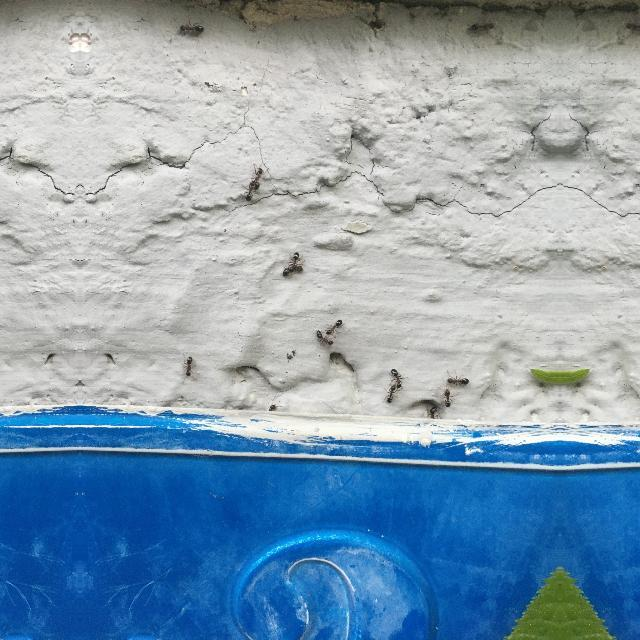Dolichoderus: (280, 250, 306, 282), (322, 315, 346, 345), (310, 326, 340, 349), (250, 158, 268, 196), (176, 18, 207, 40), (180, 349, 198, 381), (444, 370, 470, 390), (384, 379, 402, 407), (468, 18, 496, 36), (390, 363, 404, 387), (624, 16, 640, 36), (442, 384, 454, 410)
